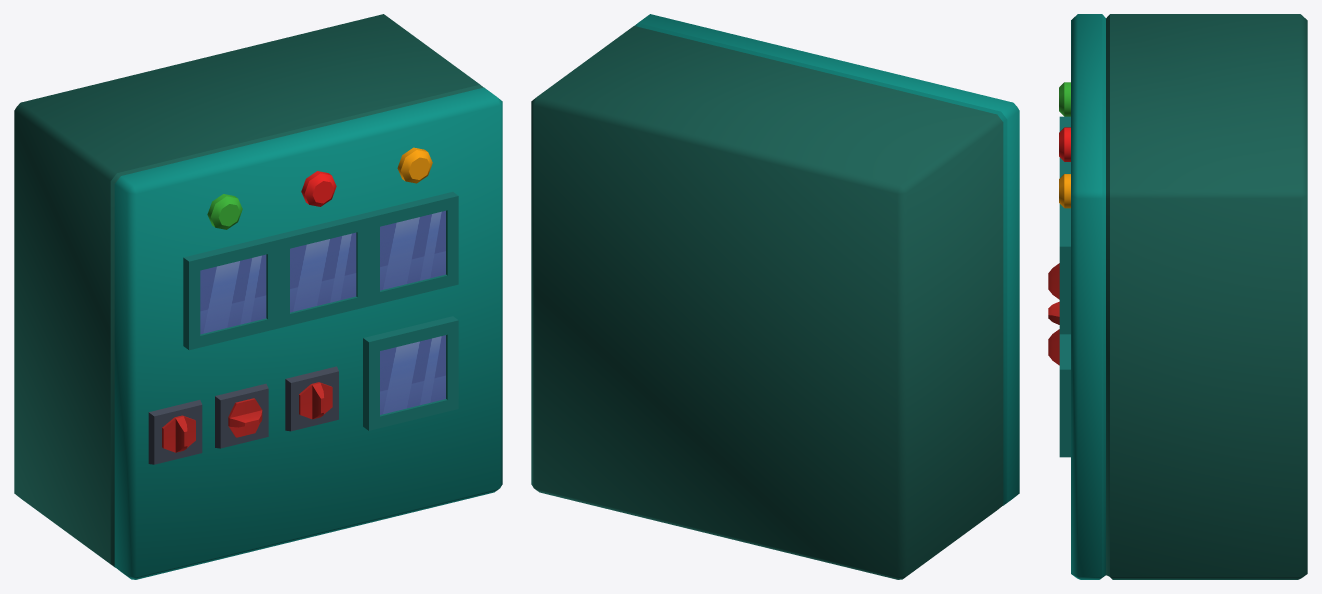
File: ElectricBox_3_C_2.fbx
3 views of the same model, side by side, from view 1: azimuth 30°, elevation 25°; view 2: azimuth 150°, elevation 25°; view 3: azimuth 270°, elevation 25° (orthographic).
Visible parts, largest first — view 1: ElectricBox_3_C_2; view 2: ElectricBox_3_C_2; view 3: ElectricBox_3_C_2.
Part boxes in pixels (x1=…): ElectricBox_3_C_2: x1=14, y1=14, x2=502, y2=579; ElectricBox_3_C_2: x1=531, y1=14, x2=1019, y2=579; ElectricBox_3_C_2: x1=1048, y1=14, x2=1307, y2=579.
Bounding box in the file's own units: 102 × 102 × 61.6.
